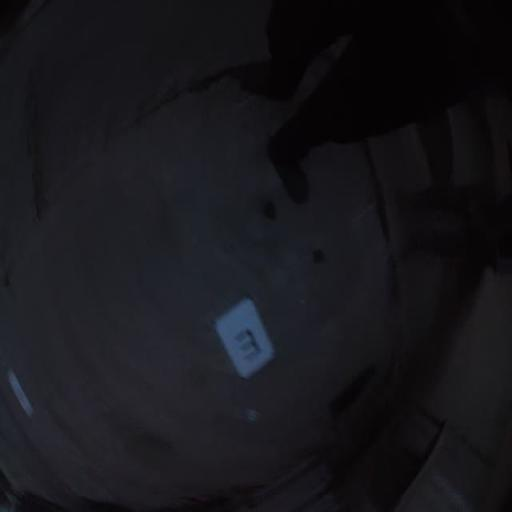E: (234, 326, 260, 362)
